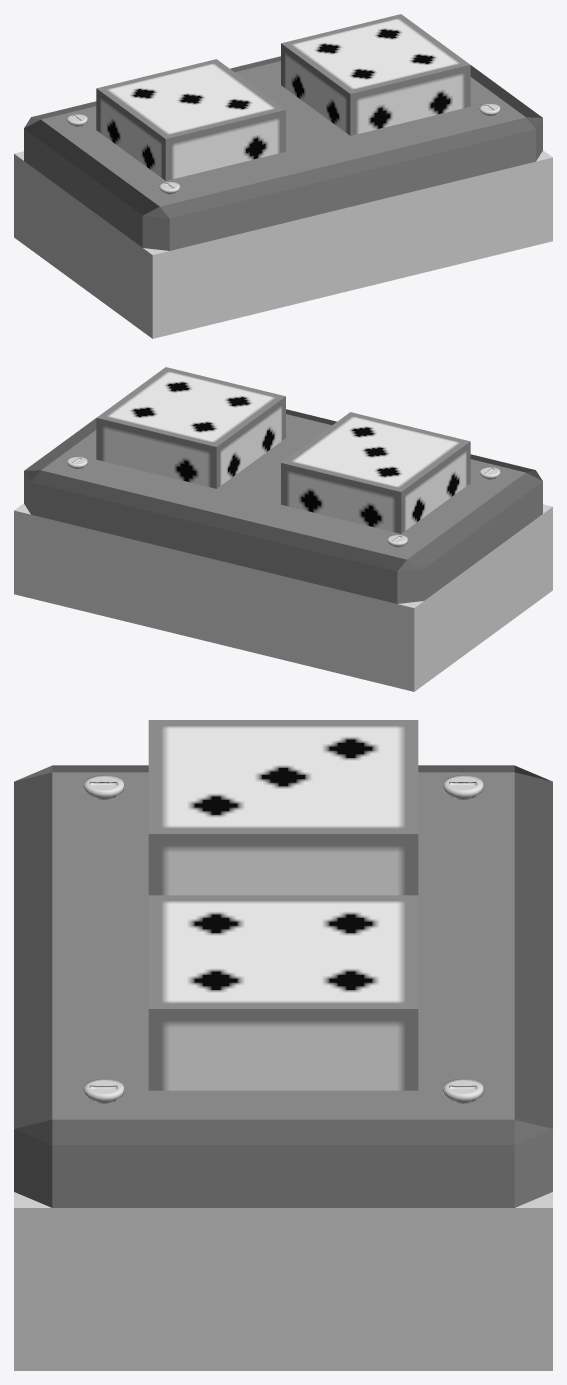
The model's file is DiceWPlatform.glb.
3 renders of one model, top to bottom at view 1: azimuth 30°, elevation 25°; view 2: azimuth 150°, elevation 25°; view 3: azimuth 270°, elevation 25°, orthographic. The views are drawn at different scales.
Parts seen in each view (by area): view 1: Cube, Top, Cube.001, Cube.002, Bottom; view 2: Cube, Top, Cube.001, Cube.002, Bottom; view 3: Top, Cube, Cube.002, Cube.001, Bottom, Circle.001, Circle.002, Circle.003, Circle.004.
Part boxes in pixels (box(x1,y1,x2,y2)): Cube: box(14, 150, 552, 338); Top: box(24, 56, 542, 234); Cube.001: box(96, 59, 285, 180); Cube.002: box(281, 14, 470, 135); Bottom: box(24, 135, 542, 250); Cube: box(14, 503, 552, 691); Top: box(24, 409, 542, 587); Cube.001: box(281, 412, 470, 533); Cube.002: box(96, 367, 285, 488); Bottom: box(24, 488, 542, 603); Top: box(14, 765, 552, 1176); Cube: box(14, 1192, 552, 1370); Cube.002: box(148, 895, 418, 1090); Cube.001: box(148, 720, 418, 895); Bottom: box(14, 1160, 552, 1207); Circle.001: box(443, 775, 483, 799); Circle.002: box(83, 1078, 123, 1103); Circle.003: box(443, 1078, 483, 1103); Circle.004: box(83, 775, 123, 799).
Size of the model in its own units: 10 by 3.89 by 6.
Materials: 5 (2 with a texture image).
